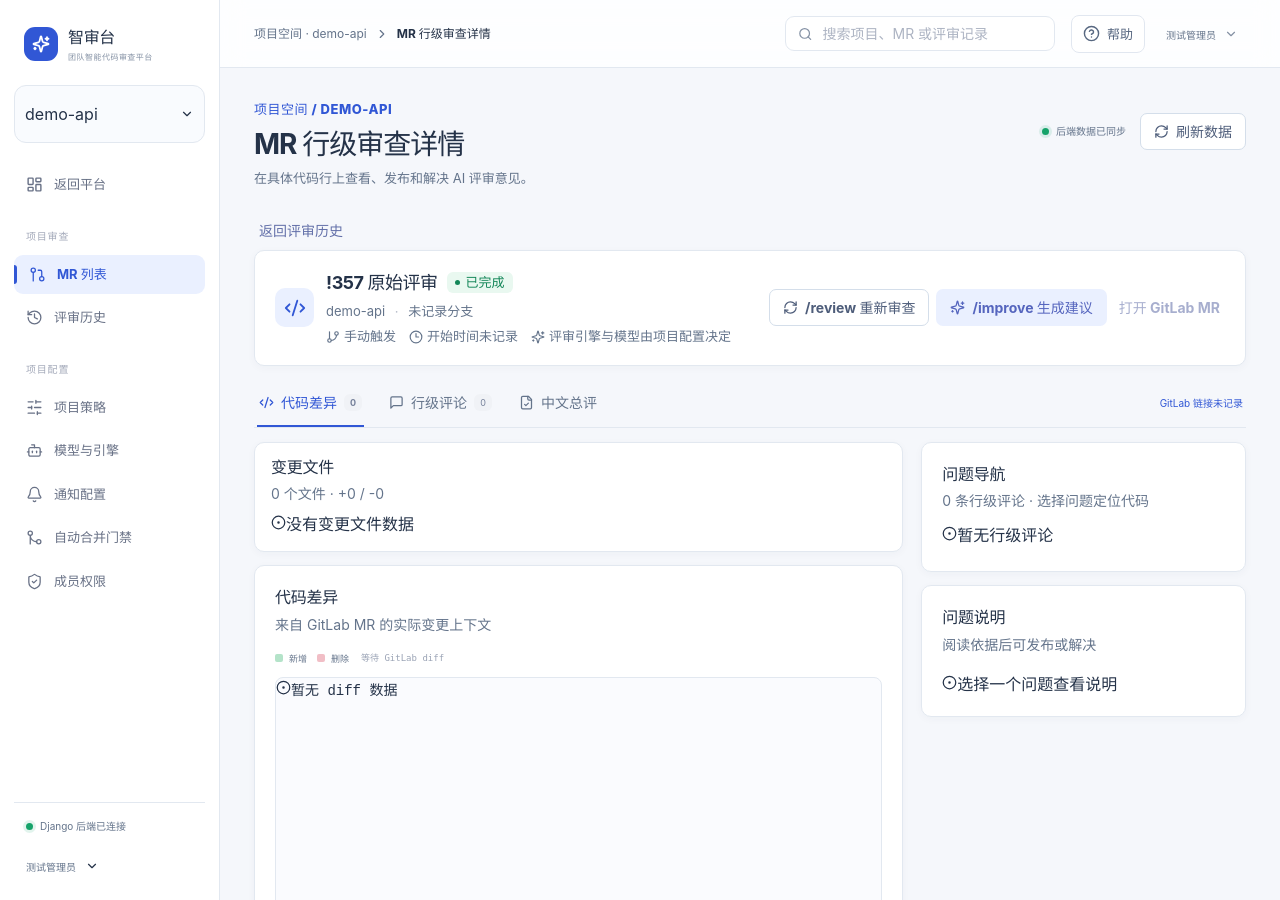
discards a polling response started before a new task was submitted
Expected: the heading "!357 原始评审" is shown, x1=326 y1=269 x2=438 y2=296
Click the button "/review 重新审查": (849, 308) x1=769 y1=289 x2=929 y2=326
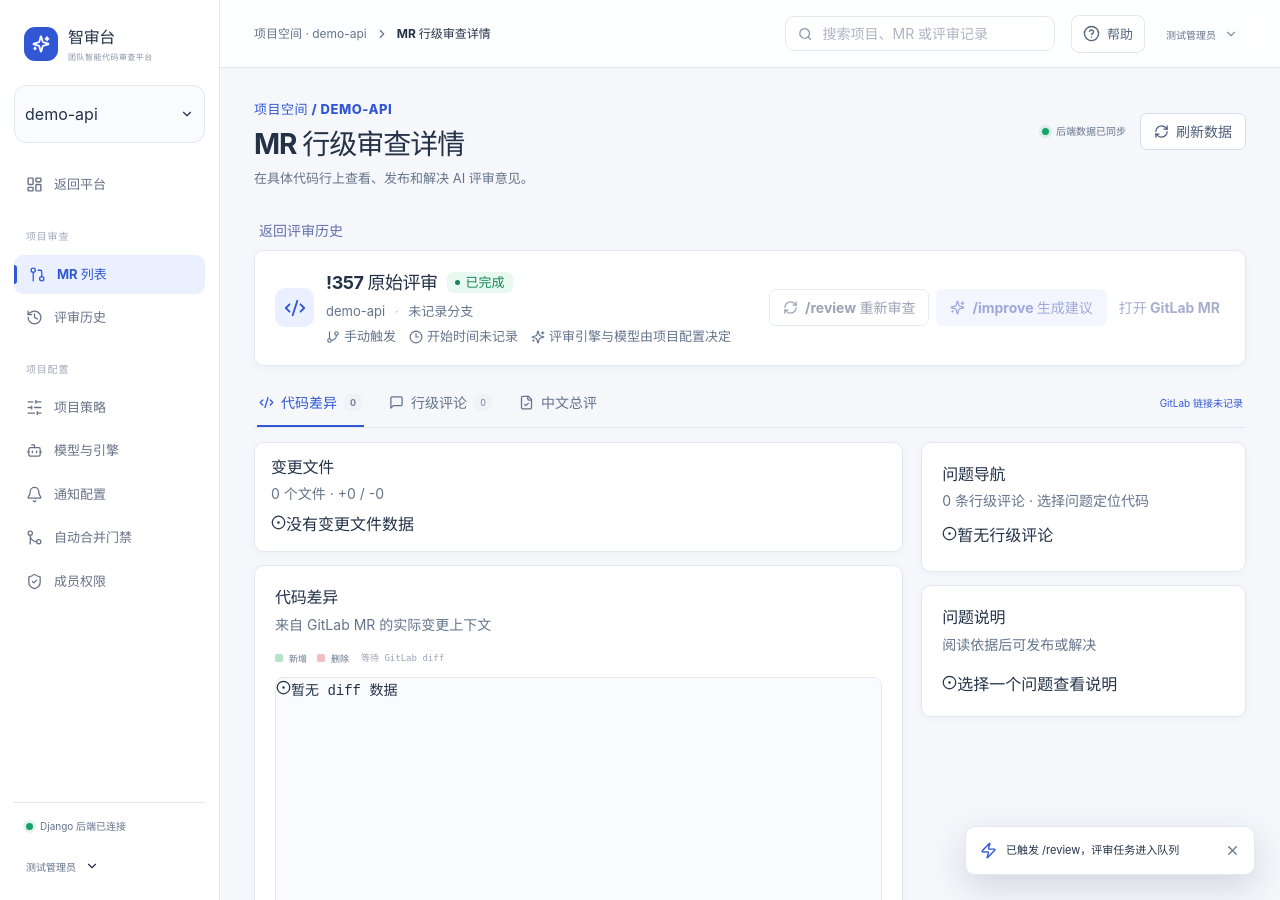
Expected: the text "已触发 /review，评审任务进入队列" is shown, x1=1006 y1=843 x2=1179 y2=857
Expected: the button "/review 重新审查" is disabled, x1=769 y1=289 x2=929 y2=326
Expected: the button "/improve 生成建议" is disabled, x1=936 y1=289 x2=1107 y2=326
